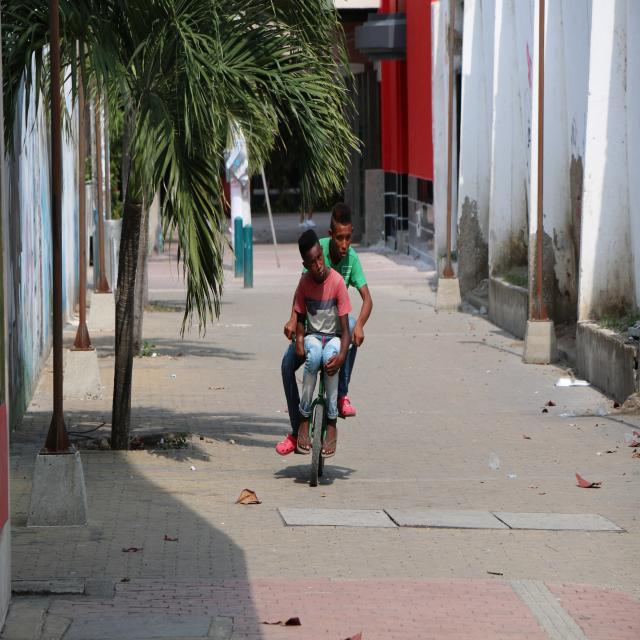adult: (276, 208, 372, 456), (294, 232, 349, 456)
